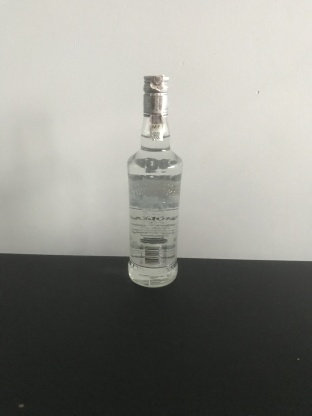nakretka: (141, 73, 170, 118)
